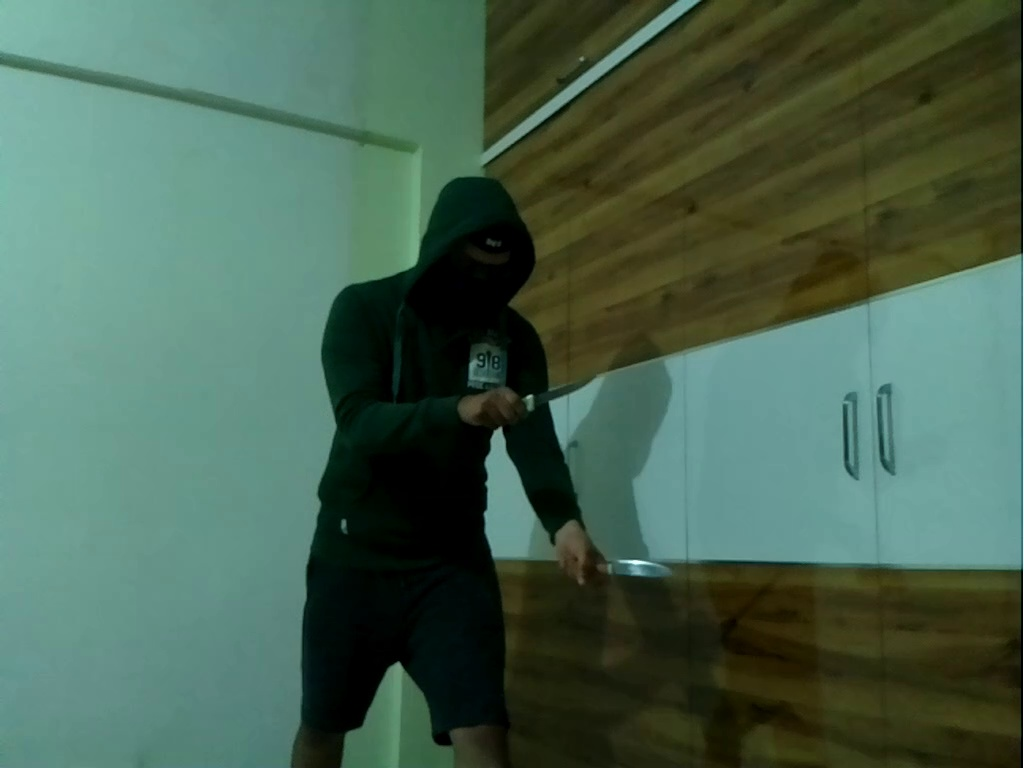knife: (498, 368, 604, 421), (564, 554, 680, 587)
